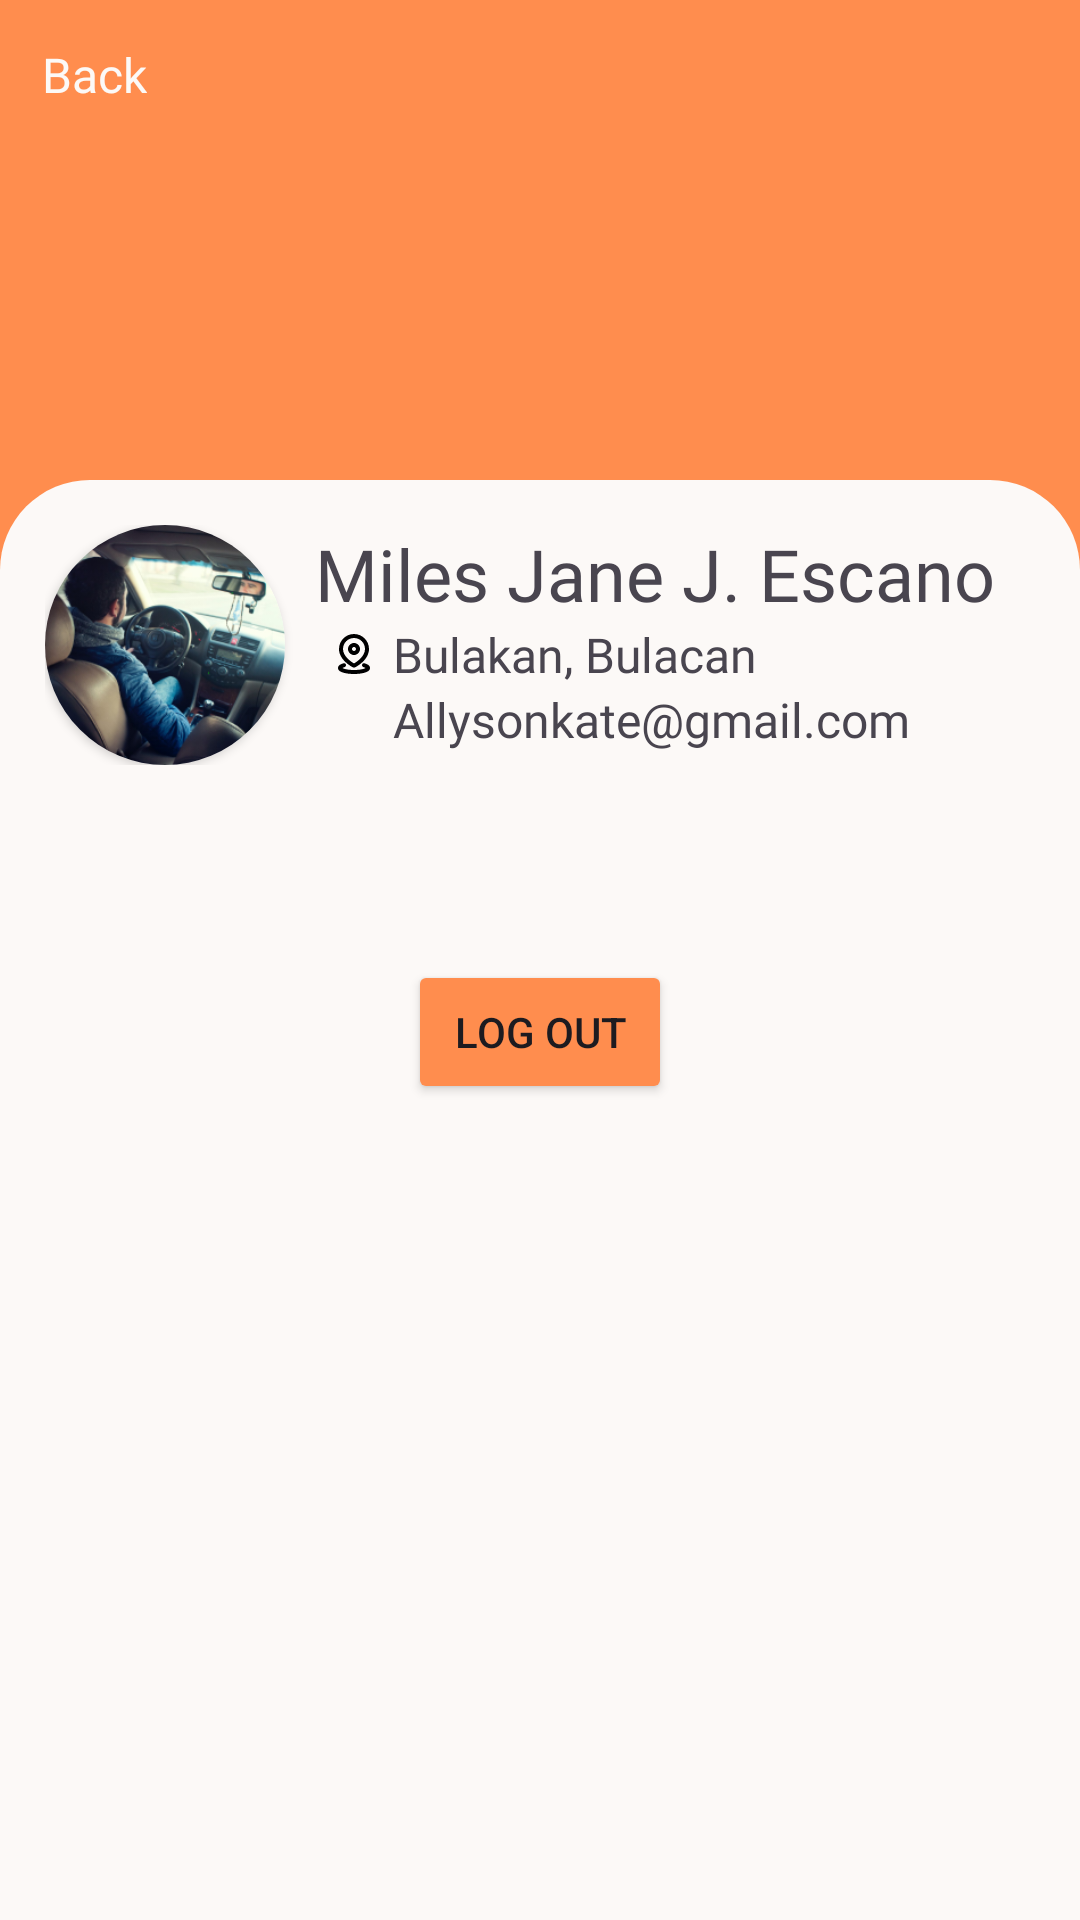

Where to tap for icons on this 1080x1920 app screen, as (x,y):
locicon: (354,654)
